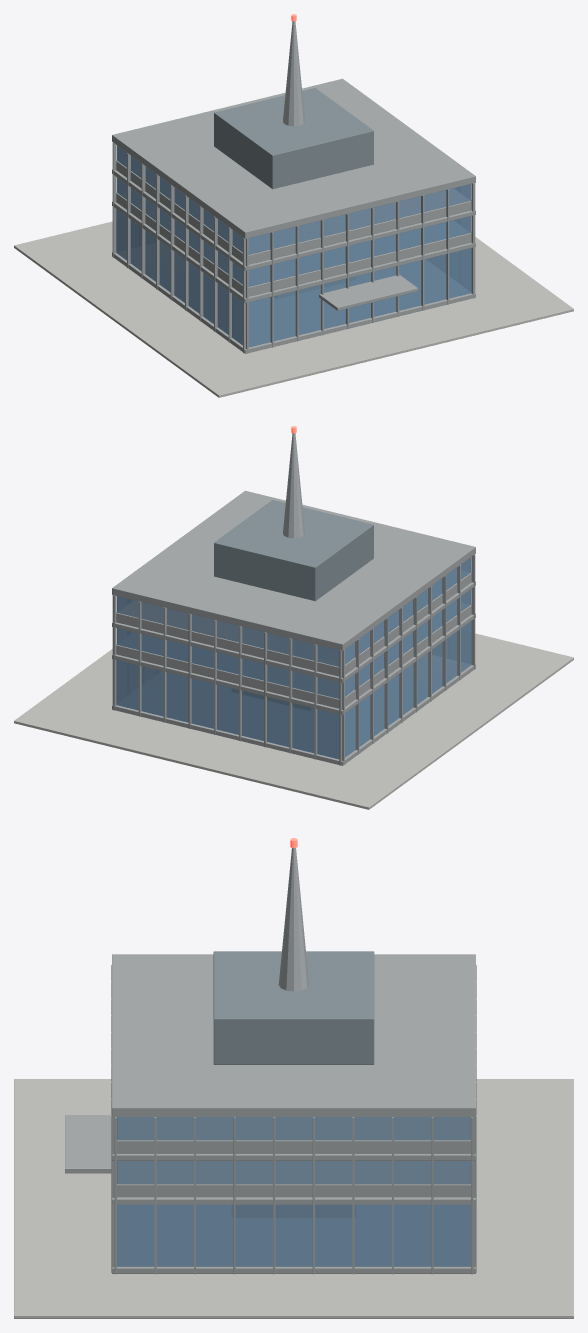
File: tower-first-generation.glb
3 renders of one model, top to bottom at view 1: azimuth 30°, elevation 25°; view 2: azimuth 150°, elevation 25°; view 3: azimuth 270°, elevation 25°, orthographic. The views are drawn at different scales.
Parts seen in each view (by area): view 1: building; view 2: building; view 3: building.
Part boxes in pixels (x1=…): building: x1=14, y1=14, x2=573, y2=397; building: x1=14, y1=426, x2=573, y2=809; building: x1=14, y1=838, x2=573, y2=1318.
Bounding box in the file's own units: 44 × 31.3 × 44.
